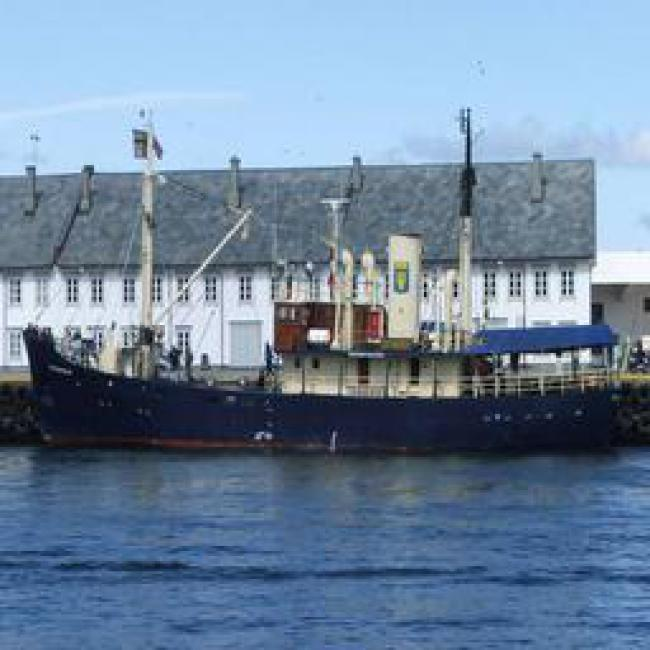Ship: (11, 299, 615, 455)
